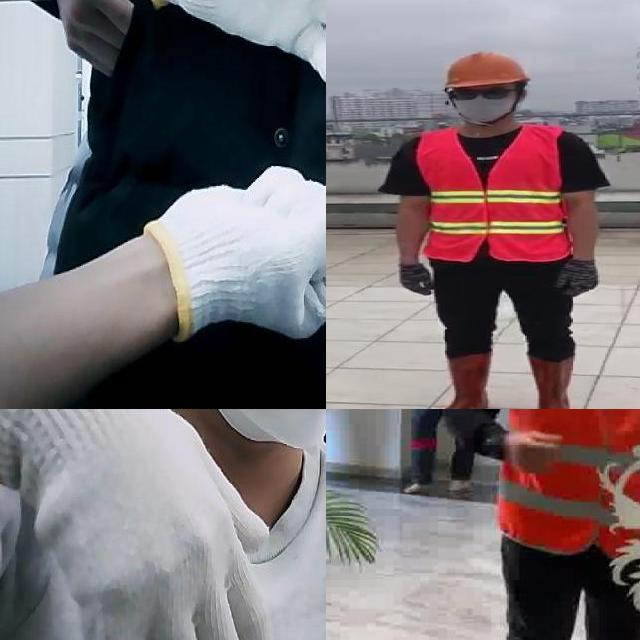BOOTS: (431, 353, 490, 409), (526, 355, 583, 409)
GLASS: (446, 86, 518, 100)
GLOVE: (0, 409, 288, 640), (141, 165, 326, 342), (146, 0, 326, 95), (560, 258, 599, 298), (398, 259, 435, 297)
HELMET: (441, 51, 533, 89)
VEST: (418, 125, 584, 262), (493, 409, 640, 556)
